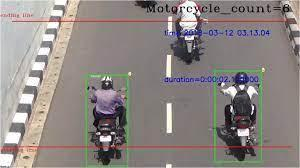motorcycle: (216, 76, 267, 164), (86, 80, 132, 162), (174, 12, 216, 66)
